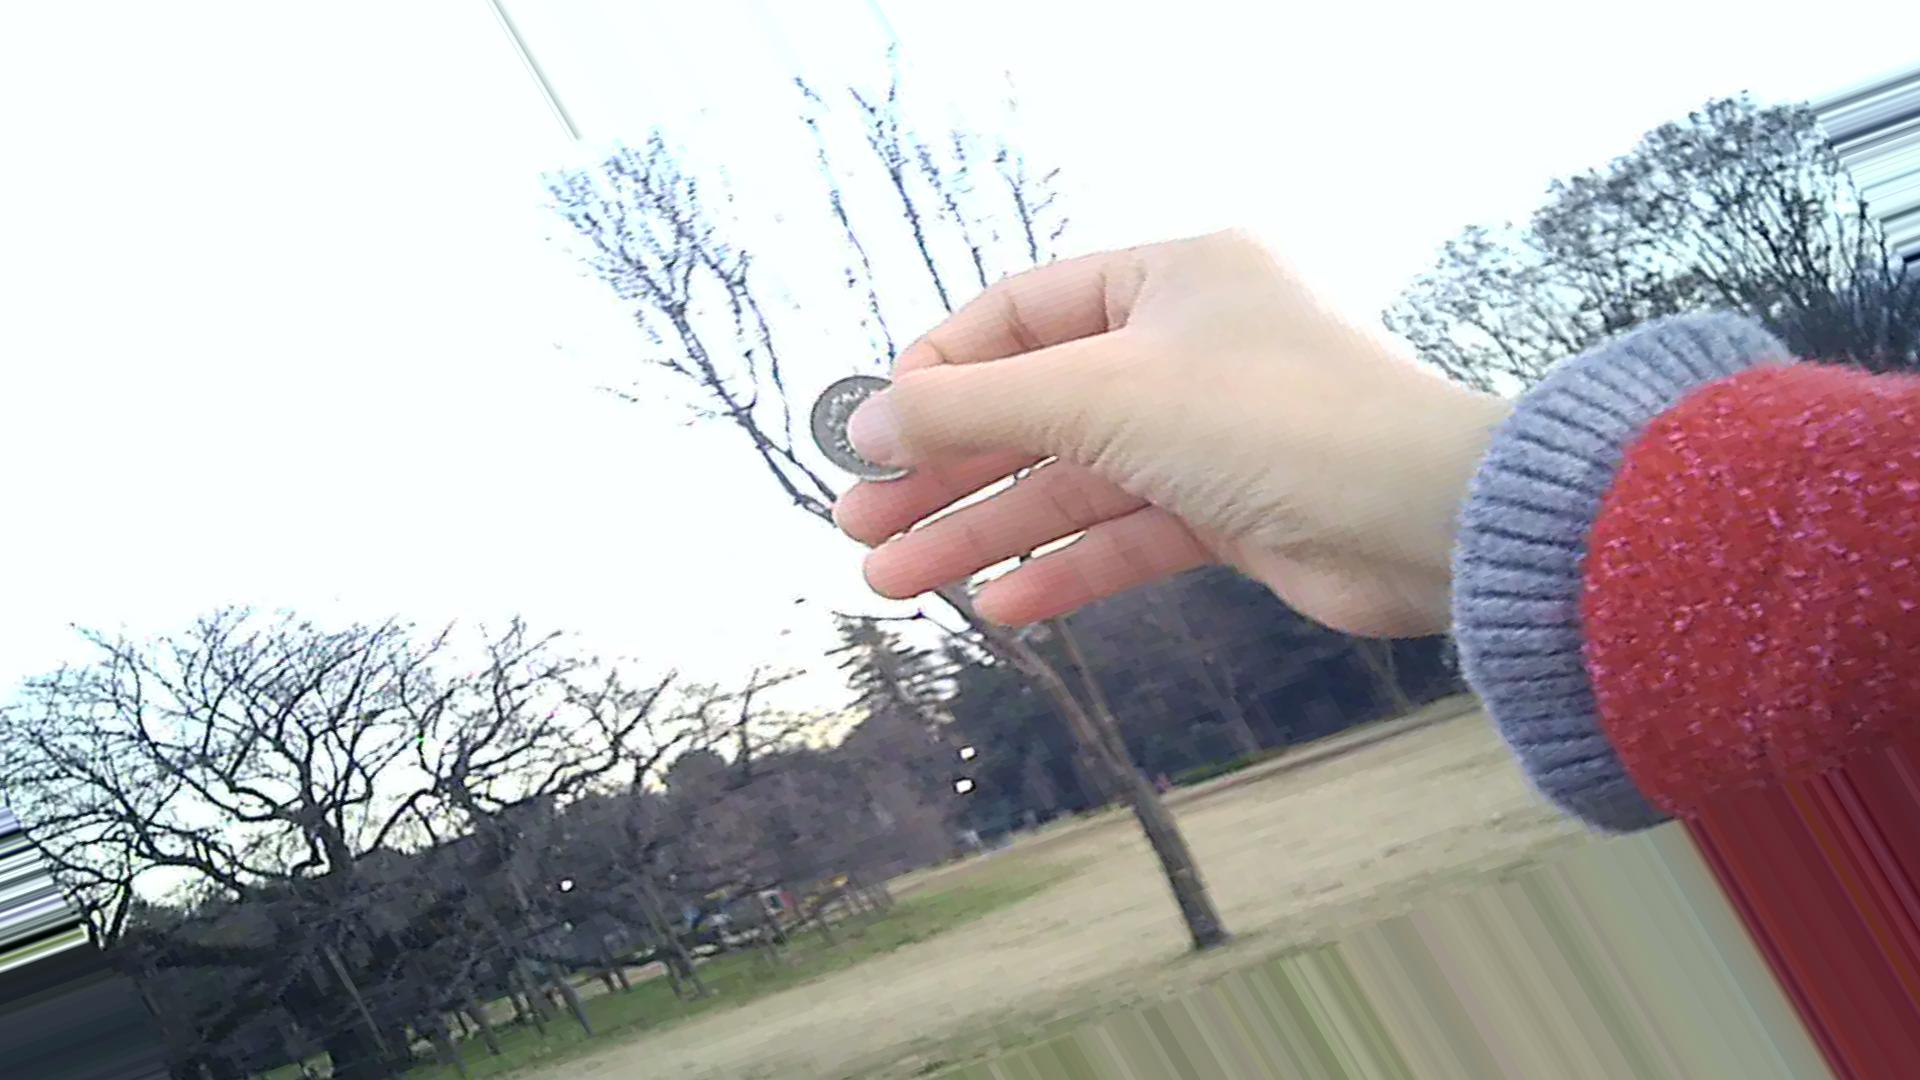100 Yen: (808, 367, 919, 487)
